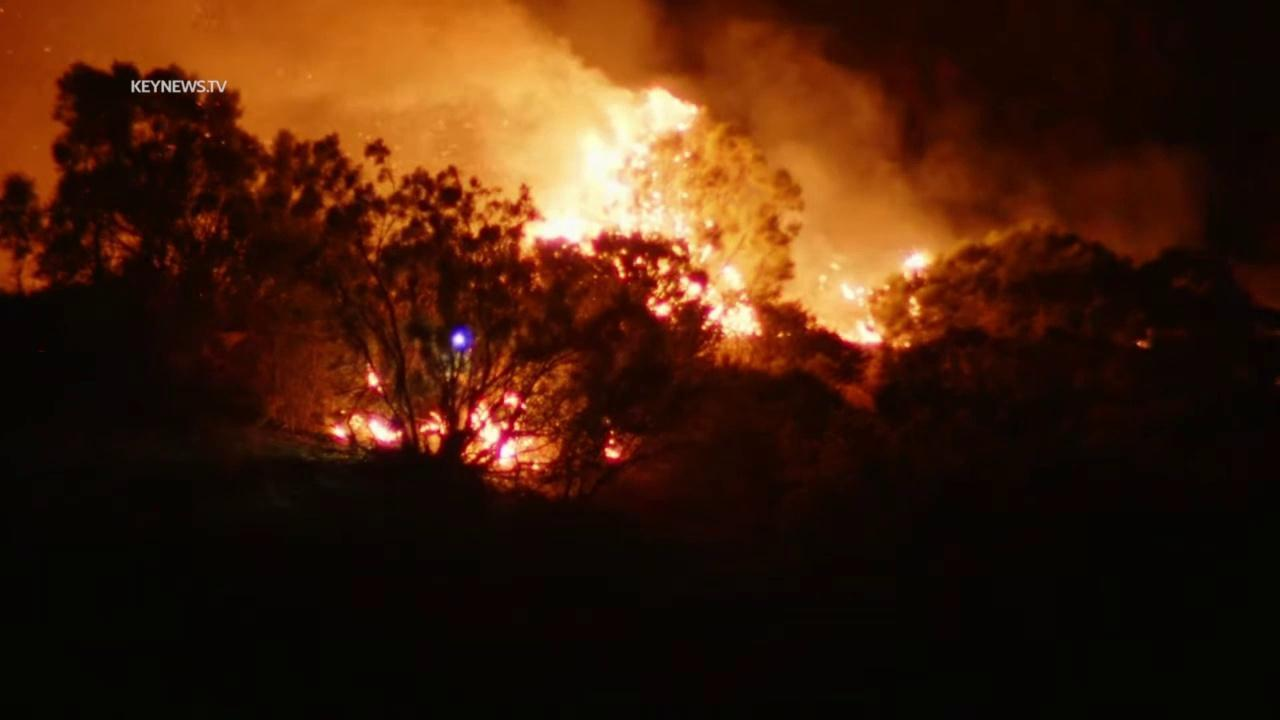fire: (518, 82, 765, 341), (813, 246, 934, 350), (468, 400, 523, 469), (364, 412, 405, 450), (417, 407, 451, 440), (601, 428, 629, 461), (494, 390, 529, 412), (362, 367, 388, 394), (325, 420, 352, 443)
smoke: (0, 0, 1280, 331)
